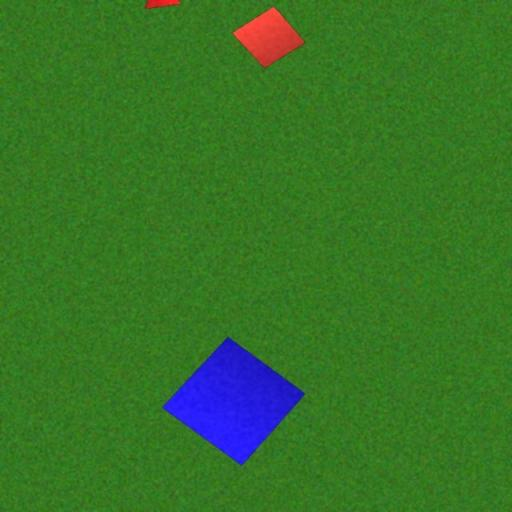BLUE_SQUARE: (162, 336, 306, 466)
RED_SQUARE: (232, 6, 306, 70)
